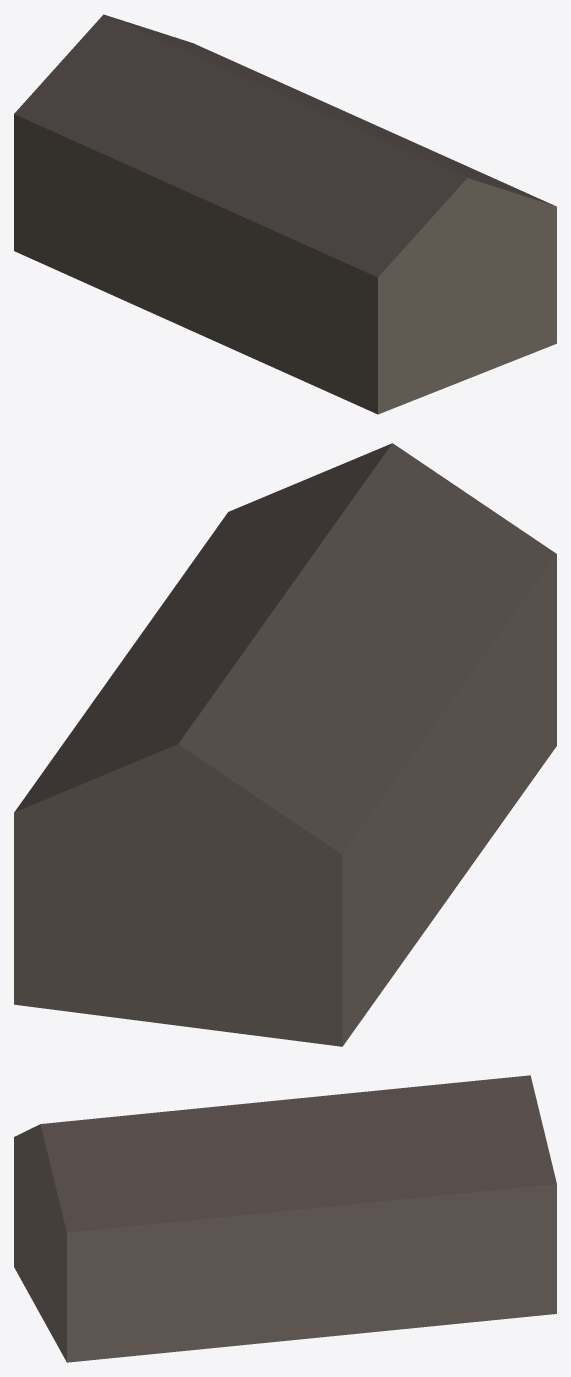
3 renders of one model, top to bottom at view 1: azimuth 30°, elevation 25°; view 2: azimuth 150°, elevation 25°; view 3: azimuth 270°, elevation 25°, orthographic. The views are drawn at different scales.
Visible parts, largest first — view 1: HP-w859082556; view 2: HP-w859082556; view 3: HP-w859082556.
Boxes of the visible parts, <box> form: HP-w859082556: <box>14,14,556,414</box>; HP-w859082556: <box>14,443,556,1046</box>; HP-w859082556: <box>14,1075,556,1362</box>.
Size of the model in its own units: 14.31 by 8.81 by 22.73.
